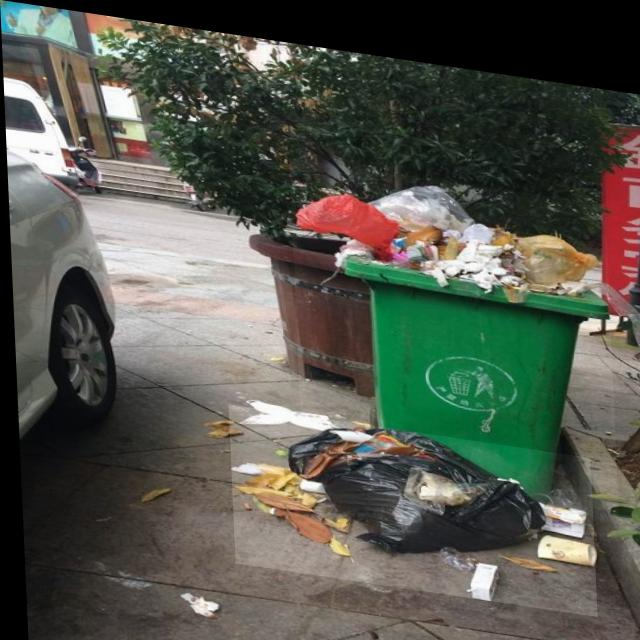garbage: (225, 398, 592, 599)
overflow: (288, 149, 615, 494)
